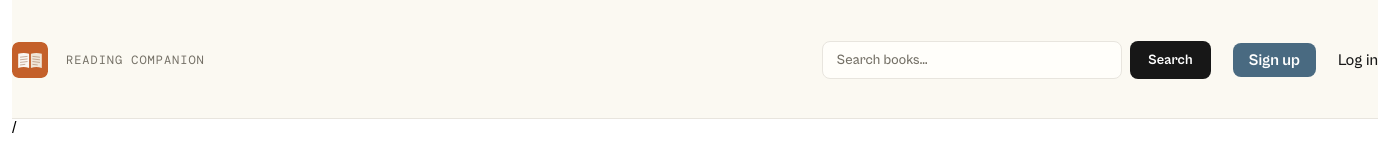
Test case: Header search › navigates to /search?q=… when the form is submitted
This screenshot has width=1390, height=160.
Step 1. Type "javascript" into the search field → (972, 60), box [822, 41, 1122, 79]
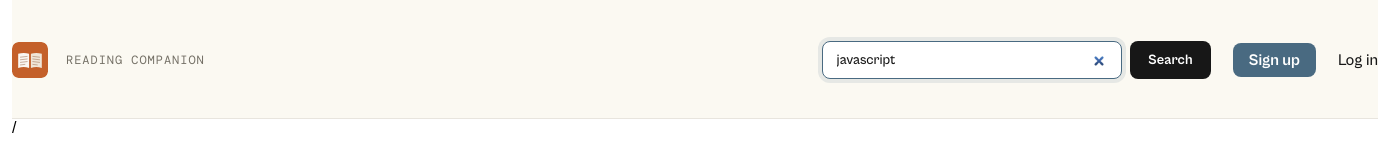
Step 2. Click the button named "submit search" → (1170, 60), box [1130, 41, 1210, 79]
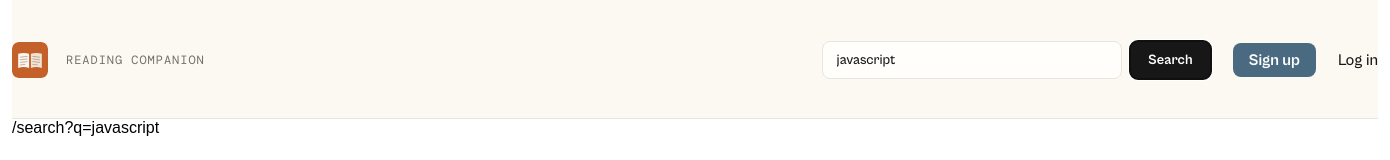
Now the text with test id "location" reads "/search?q=javascript", box [12, 119, 159, 136]
